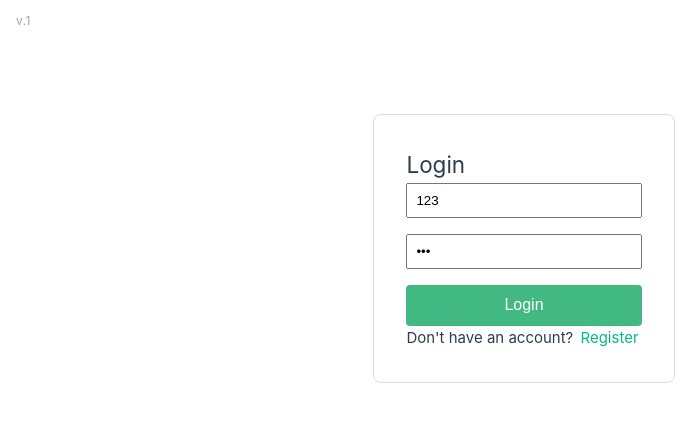
Test: login flow › shows an error message on invalid credentials
Replace the text in the field with placeholder "Username" with "alice" at (524, 201), box x1=406 y1=183 x2=641 y2=218
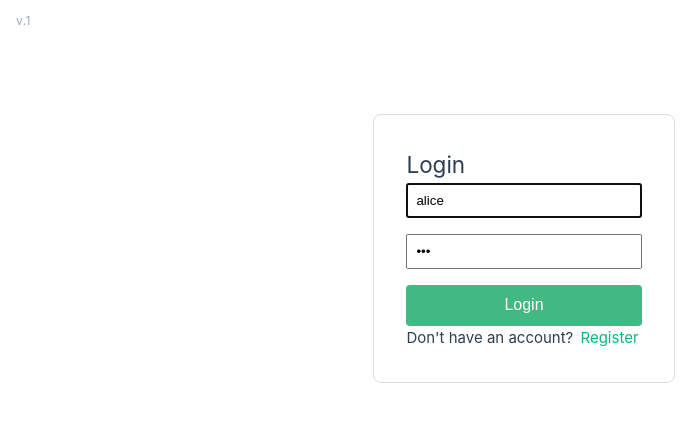
Type "wrong" into the password field with placeholder "Password" at (524, 252), box x1=406 y1=234 x2=641 y2=269
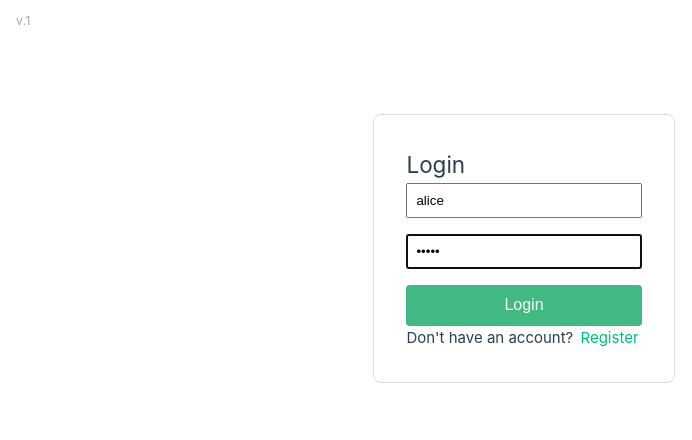
Click the button "Login" at (524, 305), box x1=406 y1=285 x2=641 y2=325
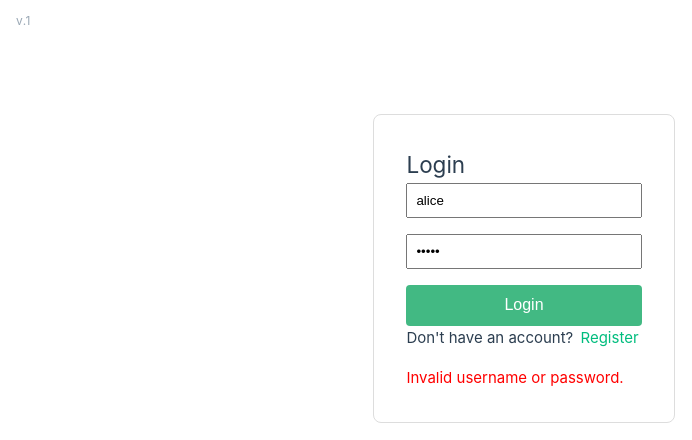
Expected: the text "Invalid username or password." is shown, x1=406 y1=366 x2=642 y2=390
